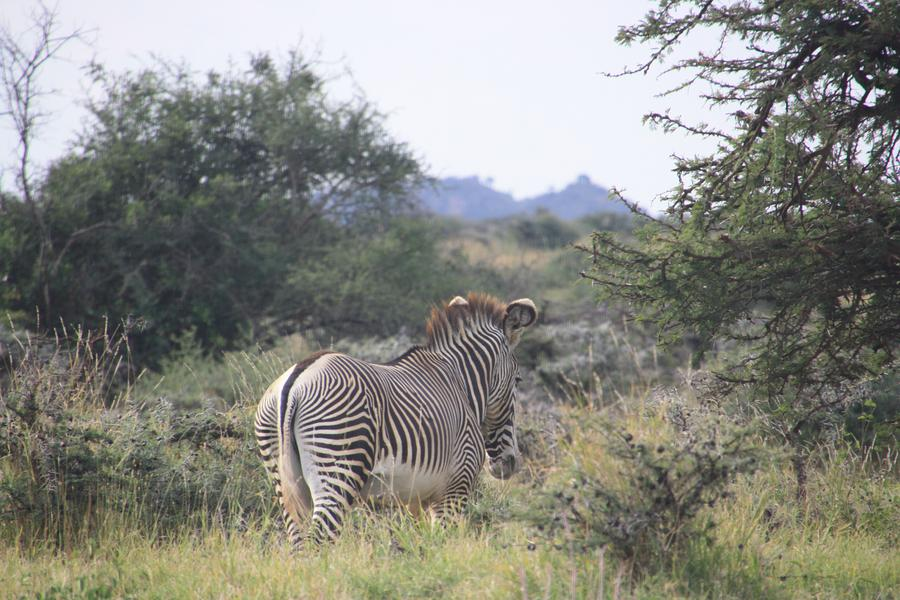zebra_grevys: (293, 334, 483, 480)
